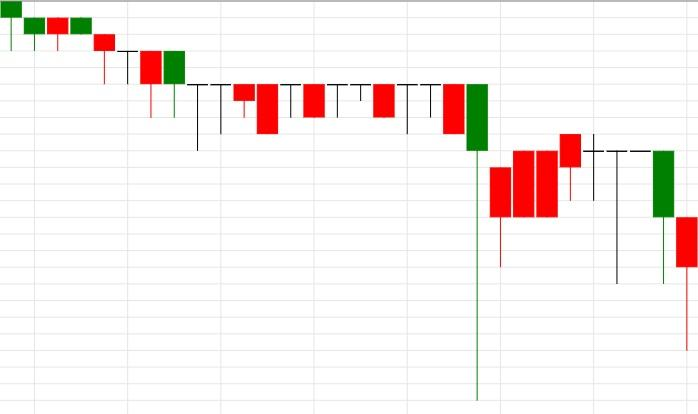hammer_rise: (0, 0, 489, 401)
